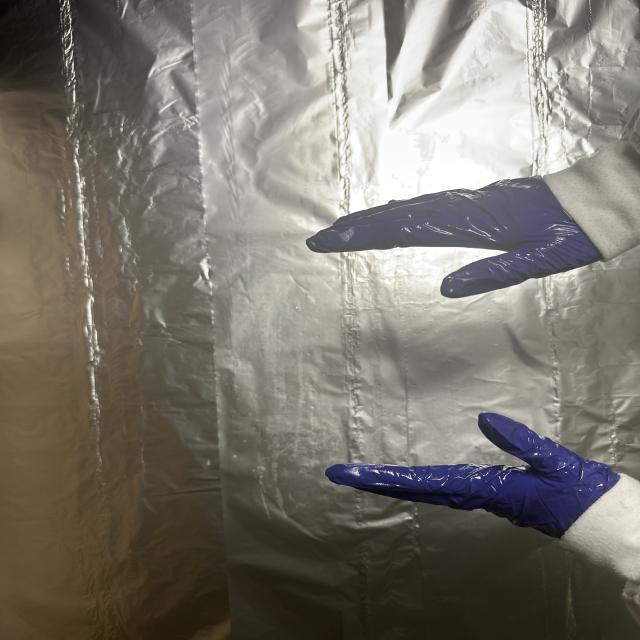gloves_contaminated: (326, 413, 622, 538), (306, 177, 600, 298)
